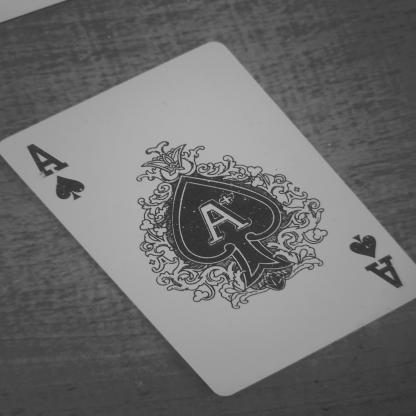AS: (27, 131, 95, 213), (336, 228, 412, 296)
